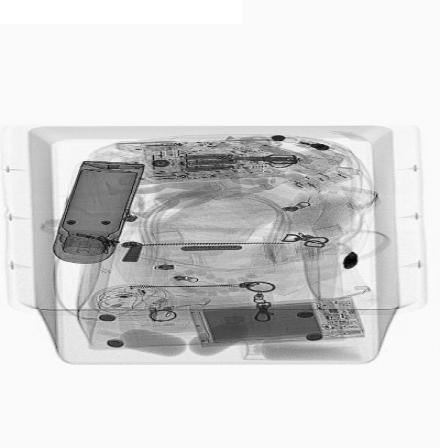Powerbank: (185, 295, 368, 346)
